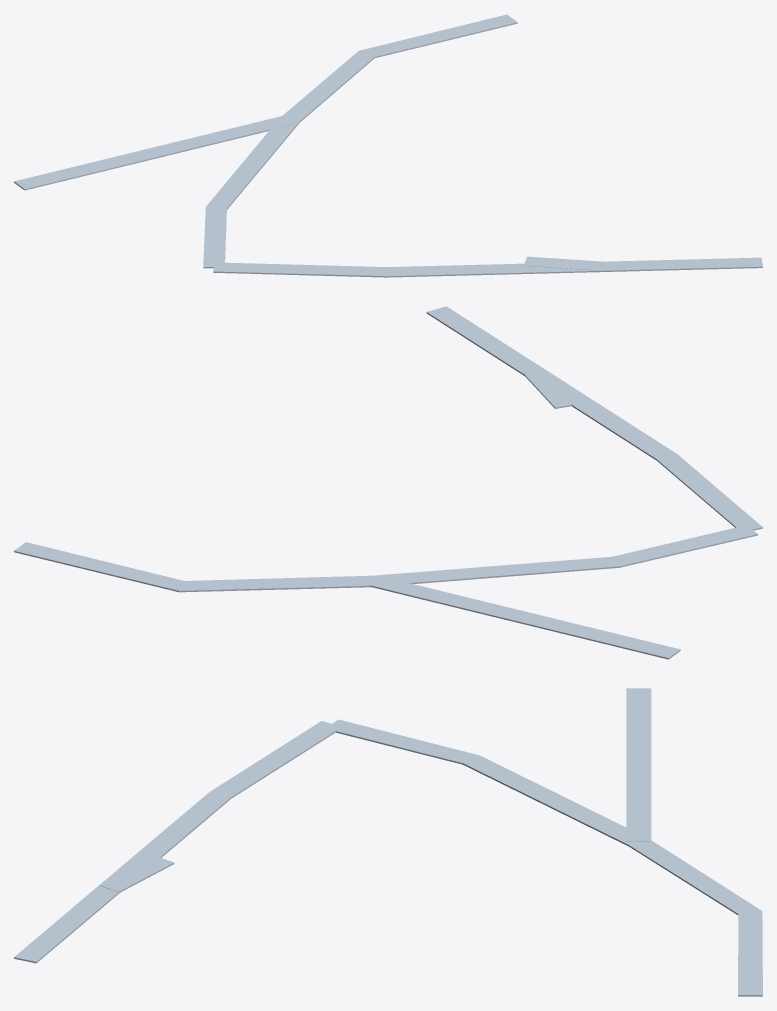
The model's file is Hut_Paths_0_-2.fbx.
3 views of the same model, one above another, from view 1: azimuth 30°, elevation 25°; view 2: azimuth 150°, elevation 25°; view 3: azimuth 270°, elevation 25° (orthographic). The views are drawn at different scales.
Parts seen in each view (by area): view 1: Hut_Paths_0_-2; view 2: Hut_Paths_0_-2; view 3: Hut_Paths_0_-2.
Part boxes in pixels (<box>): Hut_Paths_0_-2: <box>14,14,762,277</box>; Hut_Paths_0_-2: <box>14,306,762,659</box>; Hut_Paths_0_-2: <box>14,688,762,996</box>.
Bounding box in the file's own units: 5200 × 15 × 5370.
